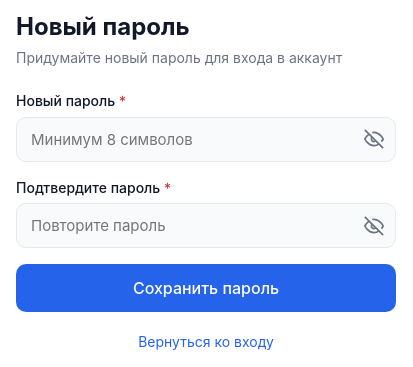
Scenario: ResetPassword.vue › отправляет запрос и показывает успех
The width and height of the screenshot is (413, 367).
In the password field with placeholder "Минимум 8 символов": (206, 139) [16,117,396,162], type "Password123!"
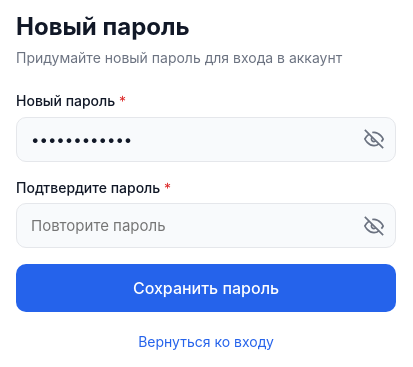
In the password field with placeholder "Повторите пароль": (206, 226) [16,203,396,248], type "Password123!"
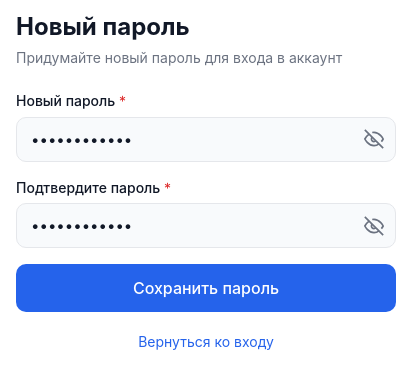
Submit the form, box [16,91,396,312]
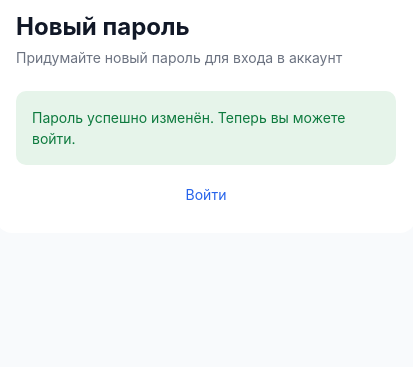
Expected: the element with test id "reset-password-success" is shown, [16,91,396,165]
